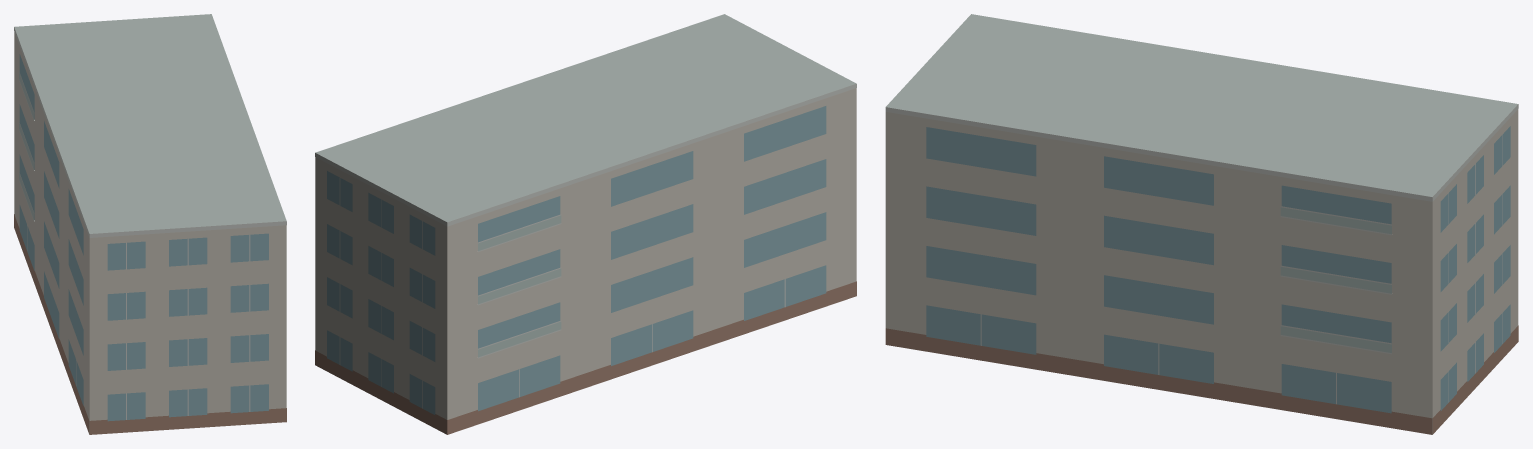
File: residential-aaeda92a-f90f-4dbf-8e3d-f6abe42b472e.glb
The picture shows the model from 3 angles, left to right: view 1: azimuth 30°, elevation 25°; view 2: azimuth 150°, elevation 25°; view 3: azimuth 270°, elevation 25°; orthographic projection. The views are drawn at different scales.
Visible parts, largest first — view 1: residential-aaeda92a-f90f-4dbf-8e3d-f6abe42b472e.tmp; view 2: residential-aaeda92a-f90f-4dbf-8e3d-f6abe42b472e.tmp; view 3: residential-aaeda92a-f90f-4dbf-8e3d-f6abe42b472e.tmp.
Part boxes in pixels (x1=…): residential-aaeda92a-f90f-4dbf-8e3d-f6abe42b472e.tmp: x1=14, y1=14, x2=286, y2=434; residential-aaeda92a-f90f-4dbf-8e3d-f6abe42b472e.tmp: x1=315, y1=14, x2=856, y2=434; residential-aaeda92a-f90f-4dbf-8e3d-f6abe42b472e.tmp: x1=885, y1=14, x2=1518, y2=434.
Size of the model in its own units: 20.16 by 12.2 by 29.44.
